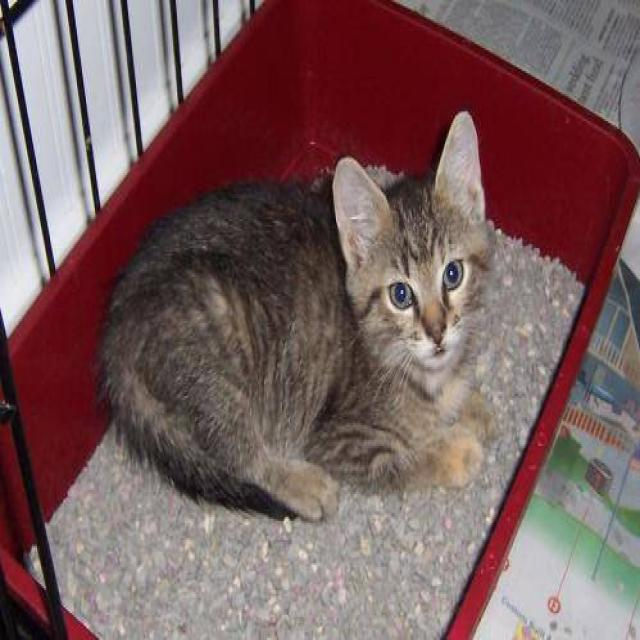cat: (94, 108, 496, 522)
